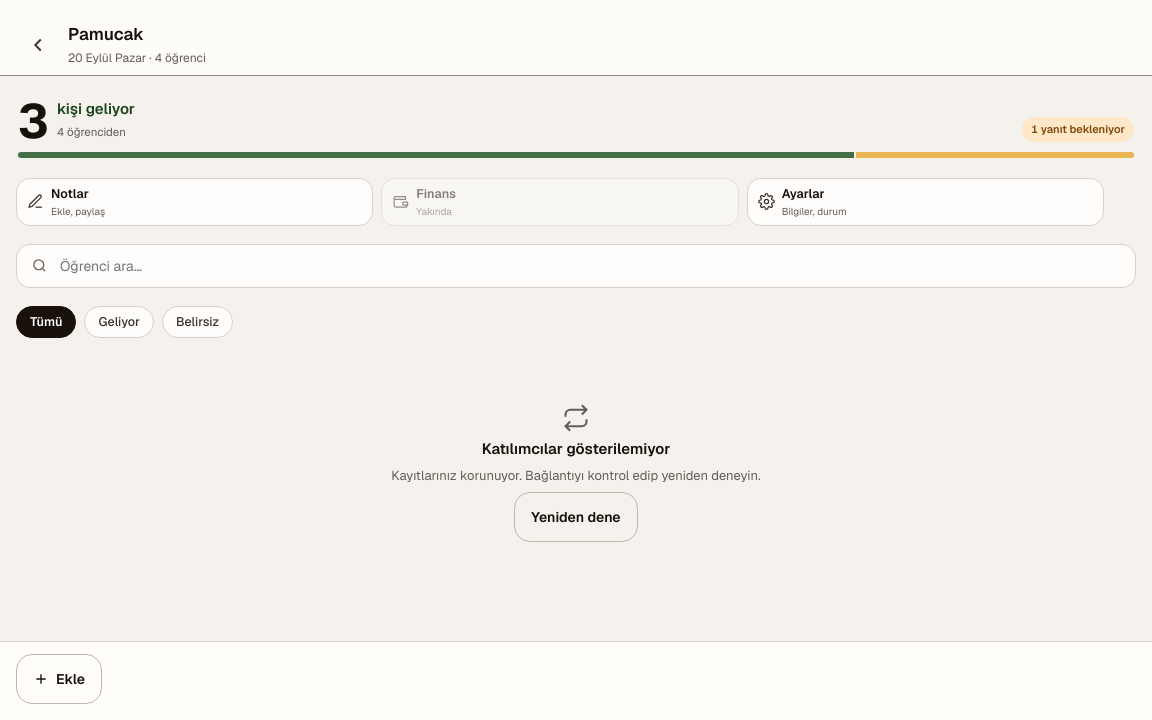
Test: Etkinlik katılımcı listesinde misafir sıralaması › katılımcı API hatasını boş liste gibi göstermez ve yeniden dener
expect the message shows "Katılımcılar gösterilemiyor": met, box [482,439,670,458]
expect the text "4 öğrenciden" is shown: met, box [57,122,135,140]
What coordinates should you click on to do the following:
click the button "Yeniden dene"
I would click on:
 (576, 517)
Its box is [514,492,638,542].
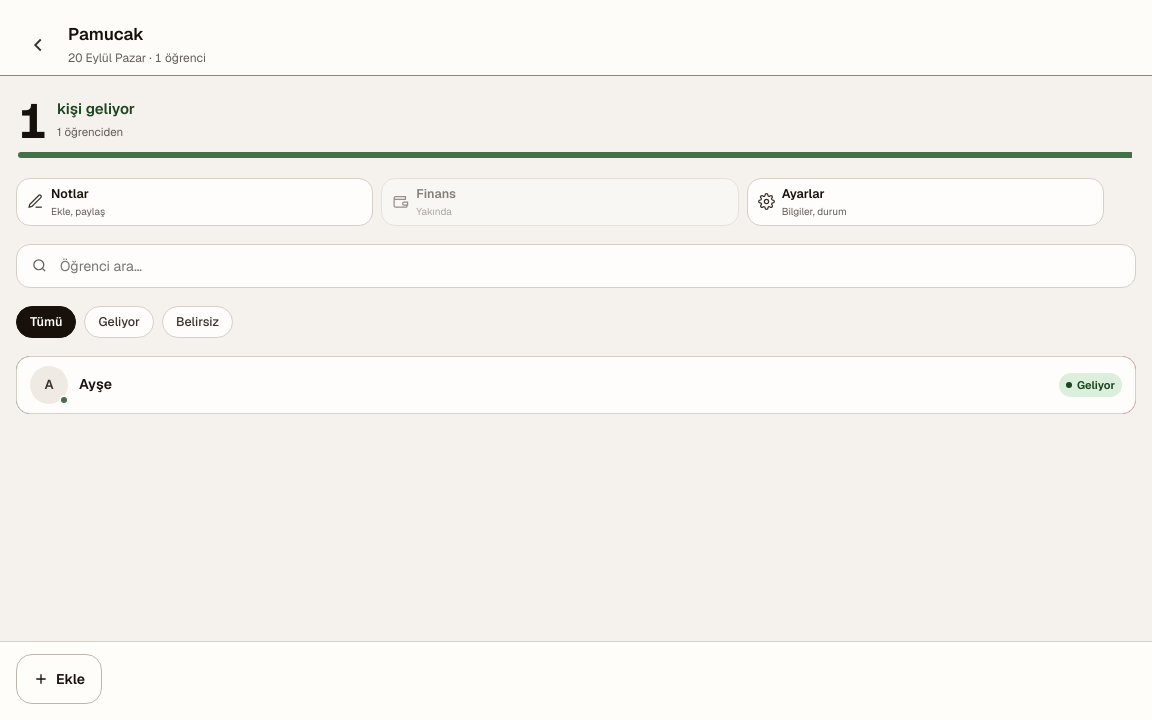
expect the button with aria-label "Ayşe detayını aç" is shown: met, box [16,356,1136,414]
